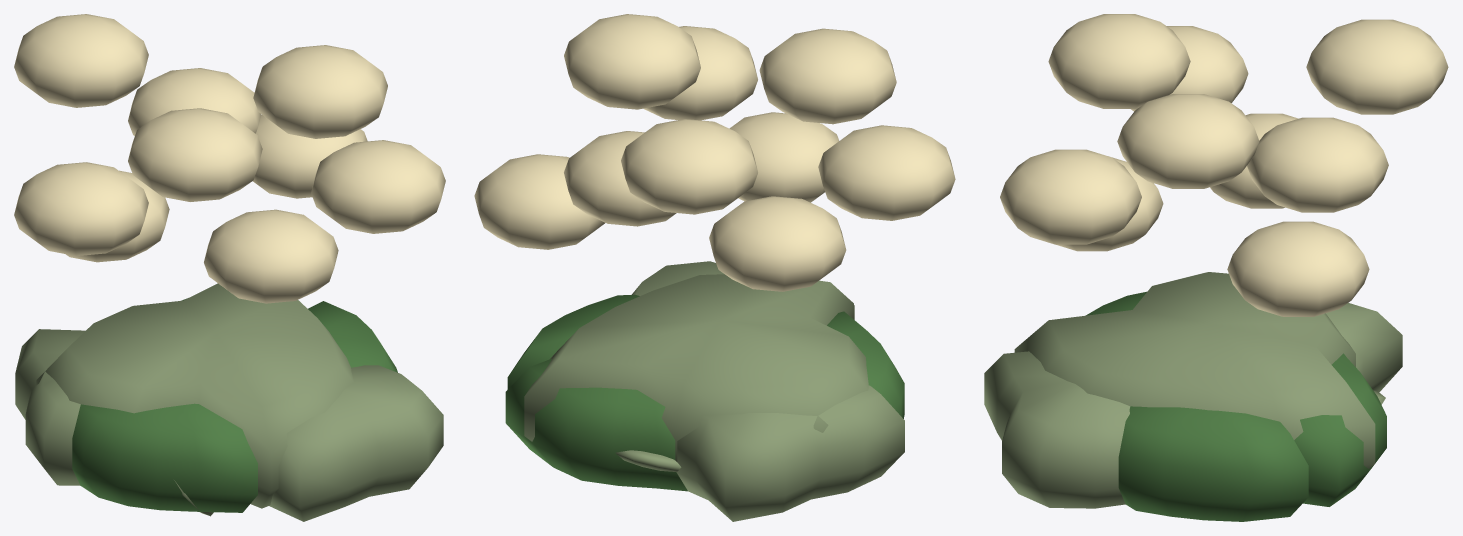
The model's file is flowers_10.glb.
The picture shows the model from 3 angles, left to right: view 1: azimuth 30°, elevation 25°; view 2: azimuth 150°, elevation 25°; view 3: azimuth 270°, elevation 25°; orthographic projection. The views are drawn at different scales.
Visible parts, largest first — view 1: Tint, Ground foliage.048, Ground foliage.050, Ground foliage.051, Ground foliage.052, Ground foliage.049; view 2: Tint, Ground foliage.048, Ground foliage.052, Ground foliage.053, Ground foliage.049, Ground foliage.051, Ground foliage.050, Rosette leaf.044; view 3: Tint, Ground foliage.048, Ground foliage.049, Ground foliage.050, Ground foliage.053, Ground foliage.052, Ground foliage.051.
Part boxes in pixels (left/top/right/bottom): Tint: left=14, top=14, right=445, bottom=303; Ground foliage.048: left=36, top=283, right=354, bottom=508; Ground foliage.050: left=269, top=365, right=443, bottom=521; Ground foliage.051: left=72, top=403, right=257, bottom=512; Ground foliage.052: left=15, top=329, right=85, bottom=485; Ground foliage.049: left=308, top=301, right=397, bottom=372; Tint: left=474, top=14, right=955, bottom=291; Ground foliage.048: left=524, top=274, right=868, bottom=461; Ground foliage.052: left=676, top=385, right=904, bottom=521; Ground foliage.053: left=505, top=358, right=687, bottom=491; Ground foliage.049: left=507, top=294, right=639, bottom=388; Ground foliage.051: left=827, top=311, right=904, bottom=418; Ground foliage.050: left=631, top=261, right=854, bottom=319; Rosette leaf.044: left=615, top=450, right=681, bottom=471; Tint: left=1000, top=14, right=1448, bottom=316; Ground foliage.048: left=1014, top=272, right=1375, bottom=468; Ground foliage.049: left=1118, top=406, right=1308, bottom=521; Ground foliage.050: left=984, top=351, right=1130, bottom=508; Ground foliage.053: left=1294, top=353, right=1386, bottom=506; Ground foliage.052: left=1326, top=303, right=1402, bottom=392; Ground foliage.051: left=1086, top=291, right=1146, bottom=315.
Bounding box in the file's own units: 0.4604 × 0.4486 × 0.4567.
